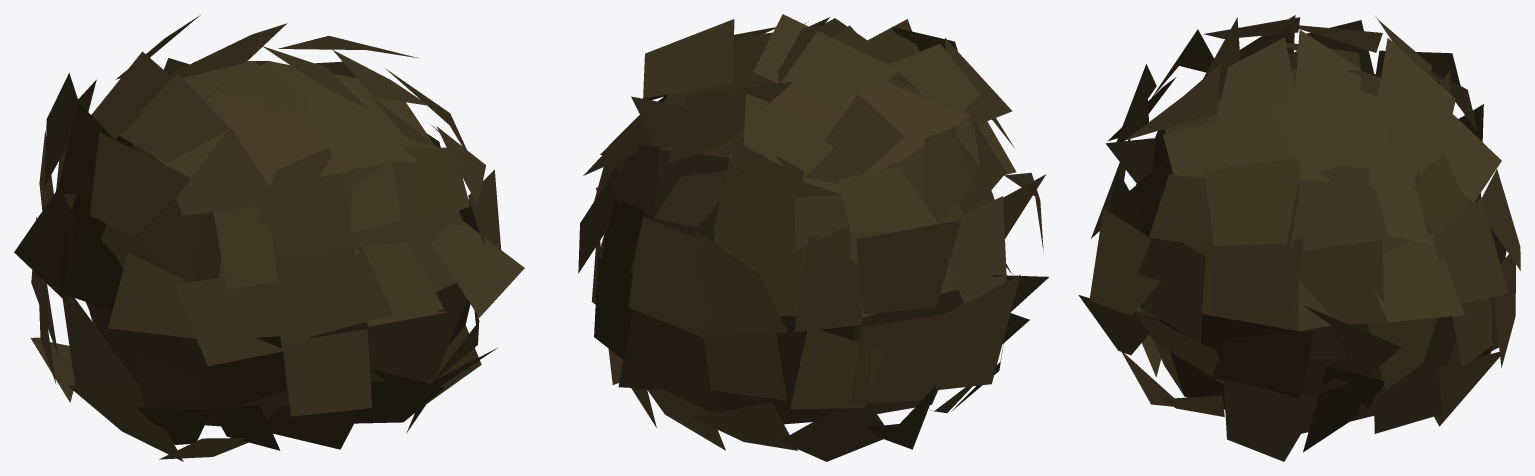
File: BushesLowPolyDisplace2.fbx
3 views of the same model, side by side, from view 1: azimuth 30°, elevation 25°; view 2: azimuth 150°, elevation 25°; view 3: azimuth 270°, elevation 25° (orthographic). The views are drawn at different scales.
Visible parts, largest first — view 1: Bush1; view 2: Bush1; view 3: Bush1.
Part boxes in pixels (x1=…): Bush1: x1=14, y1=15, x2=524, y2=461; Bush1: x1=578, y1=14, x2=1048, y2=461; Bush1: x1=1078, y1=15, x2=1520, y2=461.
Bounding box in the file's own units: 62.67 × 52.51 × 58.69.
